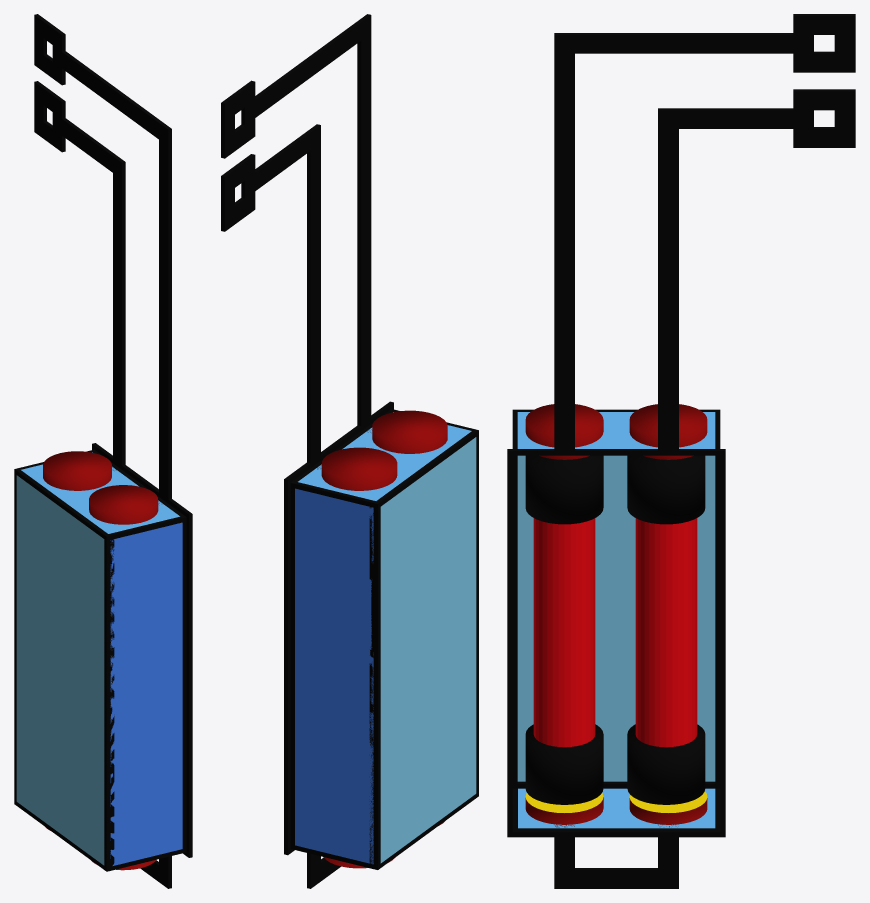
The model's file is 2Fuses.fbx.
3 renders of one model, left to right at view 1: azimuth 30°, elevation 25°; view 2: azimuth 150°, elevation 25°; view 3: azimuth 270°, elevation 25°, orthographic. The views are drawn at different scales.
Parts seen in each view (by area): view 1: 3.BODY.006; view 2: 3.BODY.006; view 3: 3.BODY.006.
Boxes of the visible parts, x1,y1,x2,y2 form: 3.BODY.006: (14, 14, 192, 888); 3.BODY.006: (221, 14, 478, 888); 3.BODY.006: (507, 14, 855, 888).
Bounding box in the file's own units: 10.45 × 92.68 × 33.5.
